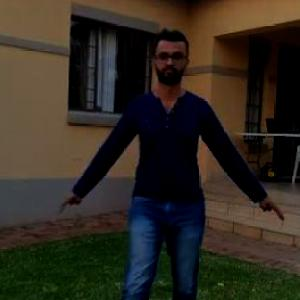land: (78, 49, 241, 299)
